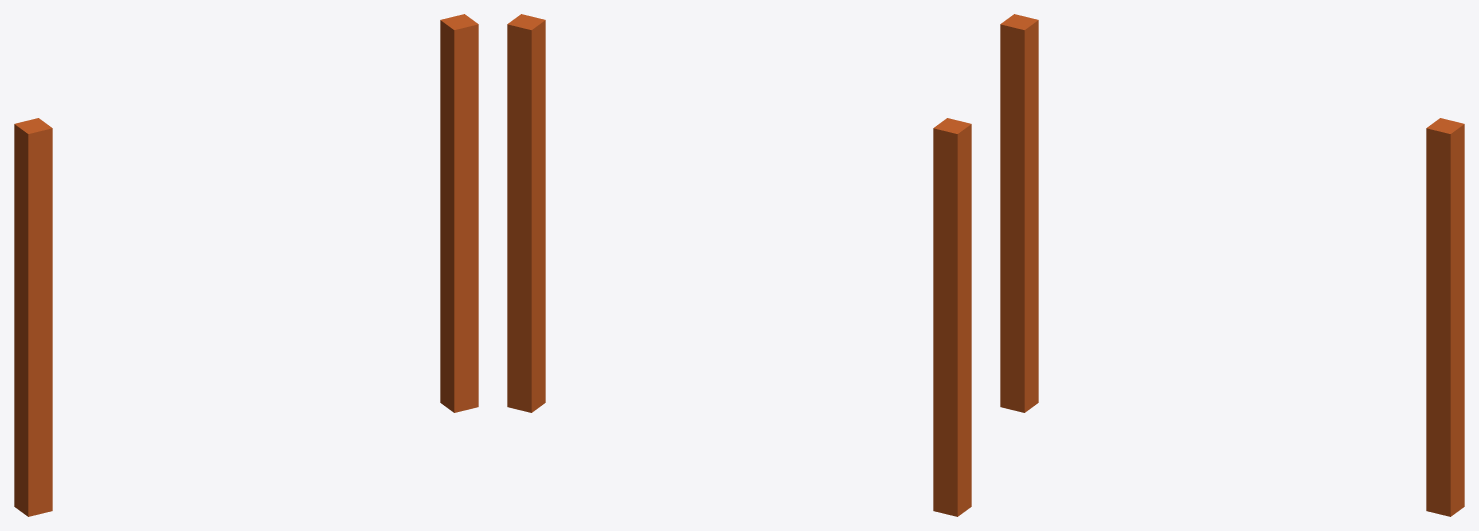
The model's file is Fence_2.fbx.
3 views of the same model, side by side, from view 1: azimuth 30°, elevation 25°; view 2: azimuth 150°, elevation 25°; view 3: azimuth 330°, elevation 25° (orthographic).
Parts seen in each view (by area): view 1: Fence_2; view 2: Fence_2; view 3: Fence_2.
Boxes of the visible parts, left/top/right/bottom form: Fence_2: left=14, top=14, right=478, bottom=516; Fence_2: left=507, top=14, right=971, bottom=516; Fence_2: left=1000, top=14, right=1464, bottom=516.
Size of the model in its own units: 92.35 by 75 by 5.
